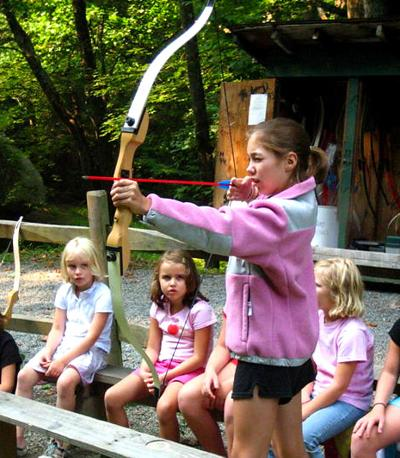person: (112, 121, 332, 456)
